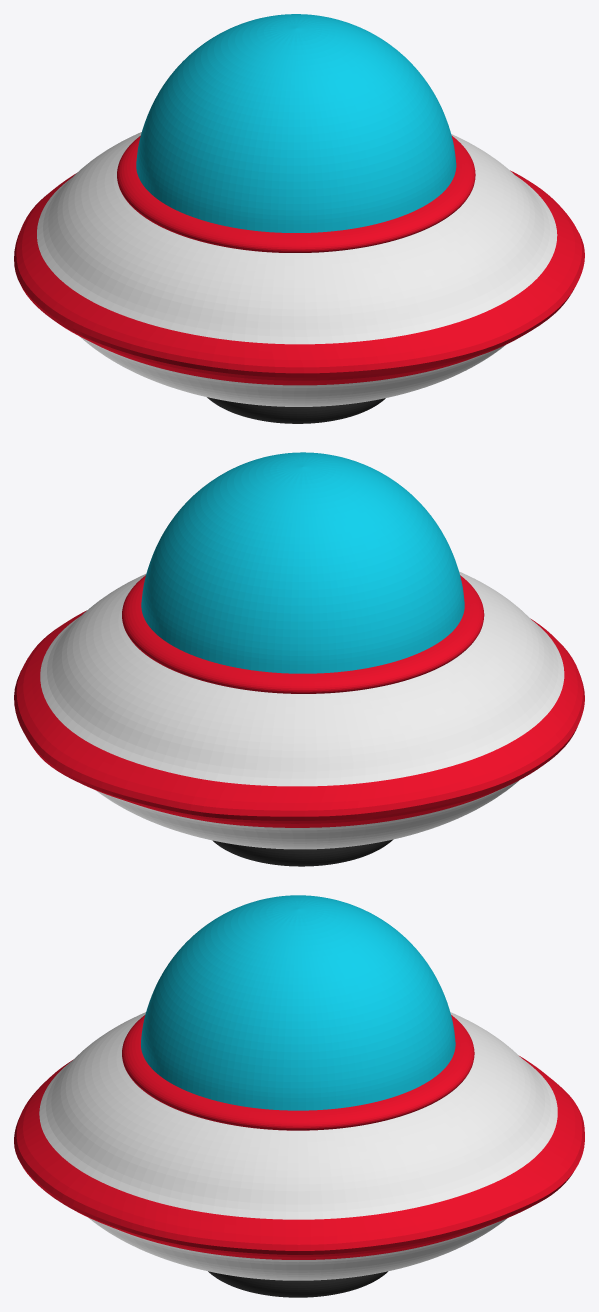
File: ufo.fbx
The picture shows the model from 3 angles, top to bottom: view 1: azimuth 30°, elevation 25°; view 2: azimuth 150°, elevation 25°; view 3: azimuth 270°, elevation 25°; orthographic projection. The views are drawn at different scales.
Parts seen in each view (by area): view 1: Sphere; view 2: Sphere; view 3: Sphere.
Part boxes in pixels (<box>): Sphere: <box>14,14,584,423</box>; Sphere: <box>14,452,584,866</box>; Sphere: <box>14,895,584,1297</box>.
Size of the model in its own units: 352 by 244 by 358.
